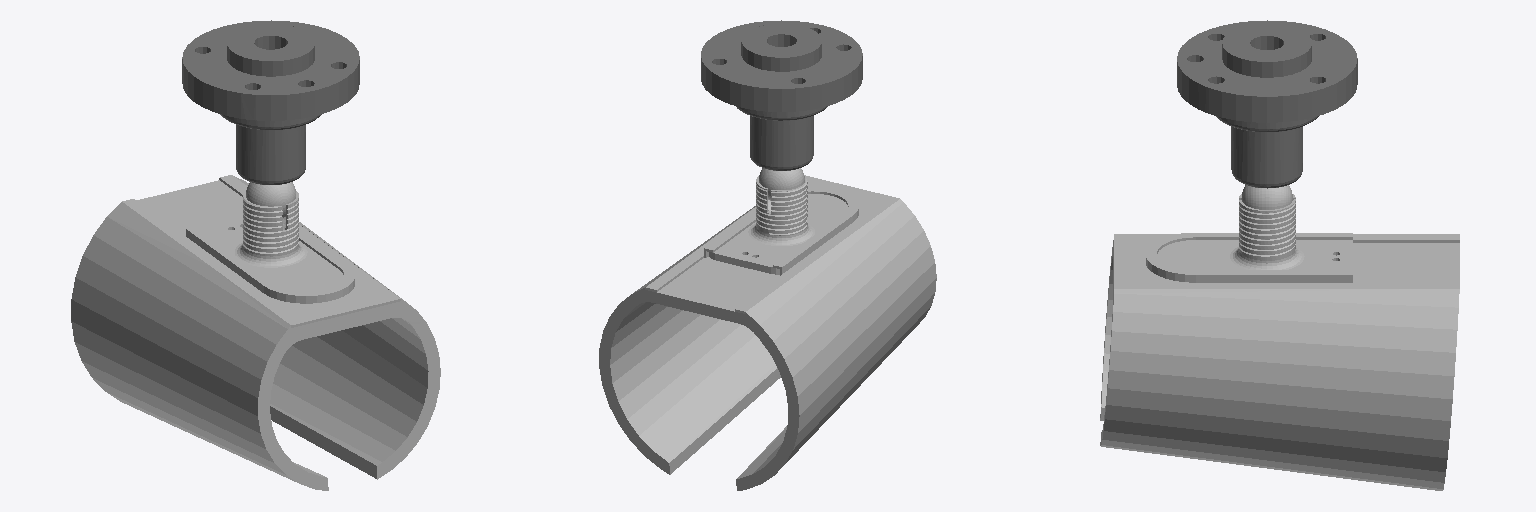
URDF robot description (herramienta_terminal_v2):
<?xml version="1.0" encoding="utf-8" ?>
<!-- This URDF was automatically created by SolidWorks to URDF Exporter! Originally created by [author] ([email redacted]) 
     Commit Version: 1.6.0-1-g15f4949  Build Version: 1.6.7594.29634
     For more information, please see http://wiki.ros.org/sw_urdf_exporter -->
<robot name="herramienta_terminal_v2">
    <link name="base_link">
        
<inertial>
            <origin
        xyz="3.45283238980799E-07 0.0608715498291928 0.00123974822814294"
        rpy="0 0 0"
      />
            <mass value="0.14135587182695" />
            <inertia
        ixx="0.000231183692827831"
        ixy="-1.47768511900404E-10"
        ixz="-5.1693909459257E-10"
        iyy="0.000182244968064674"
        iyz="7.87072289177524E-07"
        izz="0.000272489357635986"
      />
        </inertial>

        <visual>
            <origin xyz="0 0 0" rpy="0 0 0" />
            <geometry>
                <mesh
          filename="package://herramienta_terminal_v2/meshes/base_link.STL"
        />
            </geometry>
            <material name="">
                <color
          rgba="0.749019607843137 0.749019607843137 0.749019607843137 1"
        />
            </material>
        </visual>
        <collision>
            <origin xyz="0 0 0" rpy="0 0 0" />
            <geometry>
                <mesh
          filename="package://herramienta_terminal_v2/meshes/base_link.STL"
        />
            </geometry>
        </collision>
    </link>
    <link name="Esfera_Link">
        
<inertial>
            <origin
        xyz="3.16537138127935E-09 -9.45873240842943E-12 -0.000343936657503437"
        rpy="0 0 0"
      />
            <mass value="0.00284240218811015" />
            <inertia
        ixx="9.28692670688871E-08"
        ixy="2.15880406786737E-17"
        ixz="-6.12018167488118E-14"
        iyy="9.28699156426048E-08"
        iyz="1.46179252384844E-16"
        izz="9.81451950551578E-08"
      />
        </inertial>

        <visual>
            <origin xyz="0 0 0" rpy="0 0 0" />
            <geometry>
                <mesh
          filename="package://herramienta_terminal_v2/meshes/Esfera_Link.STL"
        />
            </geometry>
            <material name="">
                <color
          rgba="0.749019607843137 0.749019607843137 0.749019607843137 1"
        />
            </material>
        </visual>
        <collision>
            <origin xyz="0 0 0" rpy="0 0 0" />
            <geometry>
                <mesh
          filename="package://herramienta_terminal_v2/meshes/Esfera_Link.STL"
        />
            </geometry>
        </collision>
    </link>
    <joint name="Esfera_Joint" type="continuous">
        <origin xyz="0 0.055497 0.053919" rpy="0 0 0" />
        <parent link="base_link" />
        <child link="Esfera_Link" />
        <axis xyz="1 0 0" />
    </joint>
    <link name="Herramienta_Link">
        
<inertial>
            <origin
        xyz="7.77800235822682E-18 0.000126607760059315 0.0419859246974507"
        rpy="0 0 0"
      />
            <mass value="0.0558305704742622" />
            <inertia
        ixx="1.70715758210215E-05"
        ixy="1.8597762547717E-22"
        ixz="3.27100641838021E-22"
        iyy="1.72491853453059E-05"
        iyz="-4.95795767449829E-08"
        izz="1.83283512246861E-05"
      />
        </inertial>

        <visual>
            <origin xyz="0 0 0" rpy="0 0 0" />
            <geometry>
                <mesh
          filename="package://herramienta_terminal_v2/meshes/Herramienta_Link.STL"
        />
            </geometry>
            <material name="">
                <color
          rgba="0.501960784313725 0.501960784313725 0.501960784313725 1"
        />
            </material>
        </visual>
        <collision>
            <origin xyz="0 0 0" rpy="0 0 0" />
            <geometry>
                <mesh
          filename="package://herramienta_terminal_v2/meshes/Herramienta_Link.STL"
        />
            </geometry>
        </collision>
    </link>
    <joint name="Herramienta_Joint" type="continuous">
        <origin xyz="0 0 0" rpy="0 0 0" />
        <parent link="Esfera_Link" />
        <child link="Herramienta_Link" />
        <axis xyz="0 1 0" />
    </joint>
    
<transmission name="trans_Esfera_Joint">
        <type>transmission_interface/SimpleTransmission</type>
        <joint name="Esfera_Joint">
            <hardwareInterface
      >hardware_interface/EffortJointInterface</hardwareInterface>
        </joint>
        <actuator name="Esfera_Joint_motor">
            <hardwareInterface
      >hardware_interface/EffortJointInterface</hardwareInterface>
            <mechanicalReduction>1</mechanicalReduction>
        </actuator>
    </transmission>
    <transmission name="trans_Herramienta_Joint">
        <type>transmission_interface/SimpleTransmission</type>
        <joint name="Herramienta_Joint">
            <hardwareInterface
      >hardware_interface/EffortJointInterface</hardwareInterface>
        </joint>
        <actuator name="Herramienta_Joint_motor">
            <hardwareInterface
      >hardware_interface/EffortJointInterface</hardwareInterface>
            <mechanicalReduction>1</mechanicalReduction>
        </actuator>
    </transmission>
    <gazebo>
        <plugin name="gazebo_ros_control" filename="libgazebo_ros_control.so">
            <robotNamespace>/</robotNamespace>
        </plugin>
    </gazebo>
</robot>

--- What the picture shows (computed from the rendered views, not written in the file) ---
Views: 3 orthographic renders of the robot side by side, from view 1: azimuth 30°, elevation 25°; view 2: azimuth 150°, elevation 25°; view 3: azimuth 270°, elevation 25°.
Robot: herramienta_terminal_v2 — 3 links, 2 joints (2 continuous); root link base_link; default pose: every joint at zero.
Visible links, largest first — view 1: base_link, Herramienta_Link, Esfera_Link; view 2: base_link, Herramienta_Link, Esfera_Link; view 3: base_link, Herramienta_Link, Esfera_Link.
Boxes of the visible links, bbox=[...] form: base_link: bbox=[71, 175, 440, 490]; Herramienta_Link: bbox=[182, 20, 359, 184]; Esfera_Link: bbox=[246, 182, 295, 217]; base_link: bbox=[599, 175, 936, 490]; Herramienta_Link: bbox=[701, 20, 862, 170]; Esfera_Link: bbox=[759, 168, 804, 200]; base_link: bbox=[1100, 194, 1459, 490]; Herramienta_Link: bbox=[1177, 20, 1357, 188]; Esfera_Link: bbox=[1241, 185, 1292, 209].
Bounding box of the posed robot: 0.0899 × 0.1253 × 0.1652 m (x, y, z).
3 mesh visuals loaded from 3 distinct referenced files (3 binary STL).